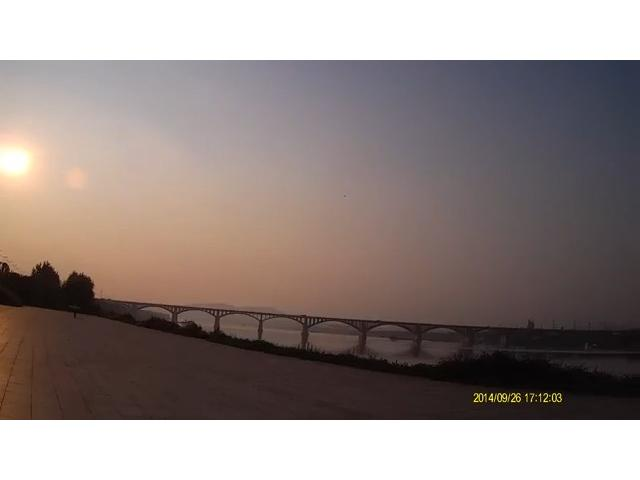Anti-Drone: (338, 188, 362, 205)
